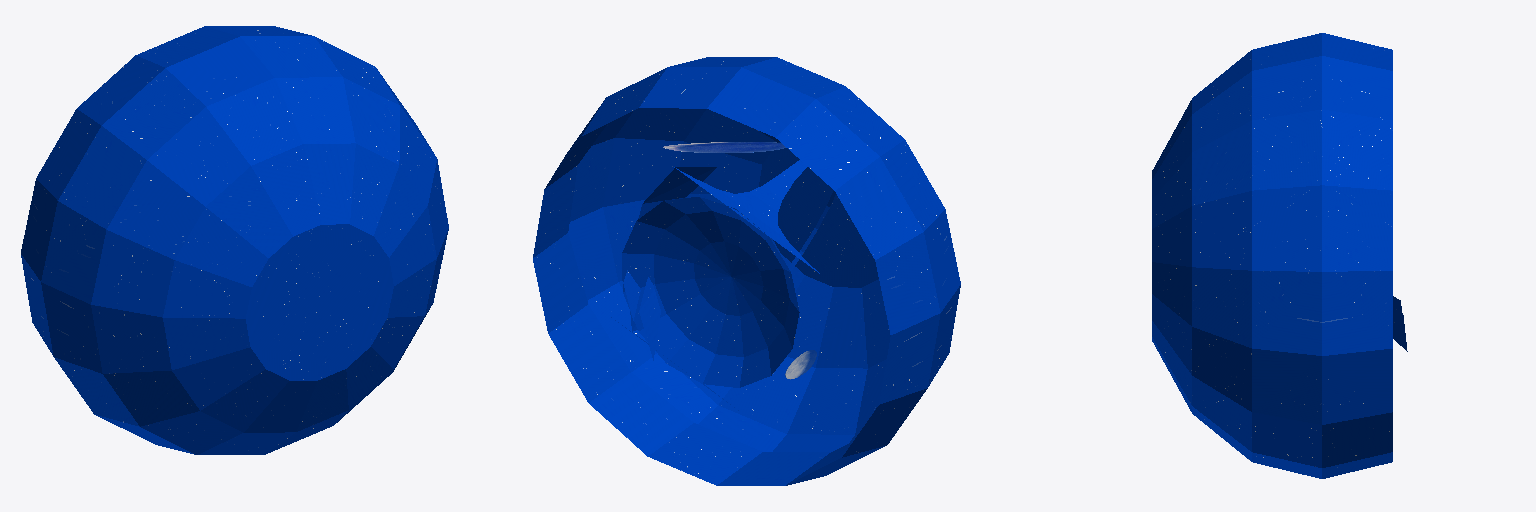
3 renders of one model, left to right at view 1: azimuth 30°, elevation 25°; view 2: azimuth 150°, elevation 25°; view 3: azimuth 270°, elevation 25°, orthographic.
Visible parts, largest first — view 1: coagulation_1_sky_1_0; view 2: coagulation_1_sky_1_0, coagulation_4_sky_1_0, coagulation_6_sky_1_0, coagulation_2_sky_1_0, coagulation_3_sky_1_0, coagulation_7_sky_1_0, coagulation_1_sky_1_1, coagulation_1_sky_1_2; view 3: coagulation_1_sky_1_0.
Part boxes in pixels (left/top/right/bottom): coagulation_1_sky_1_0: left=21, top=26, right=448, bottom=454; coagulation_1_sky_1_0: left=547, top=57, right=960, bottom=485; coagulation_4_sky_1_0: left=622, top=197, right=799, bottom=387; coagulation_6_sky_1_0: left=533, top=124, right=852, bottom=485; coagulation_2_sky_1_0: left=611, top=160, right=835, bottom=410; coagulation_3_sky_1_0: left=630, top=167, right=716, bottom=331; coagulation_7_sky_1_0: left=623, top=270, right=660, bottom=360; coagulation_1_sky_1_1: left=663, top=142, right=785, bottom=152; coagulation_1_sky_1_2: left=785, top=350, right=816, bottom=379; coagulation_1_sky_1_0: left=1152, top=33, right=1392, bottom=478.
Size of the model in its own units: 303 by 303 by 173.
Materials: 3 (3 with a texture image).